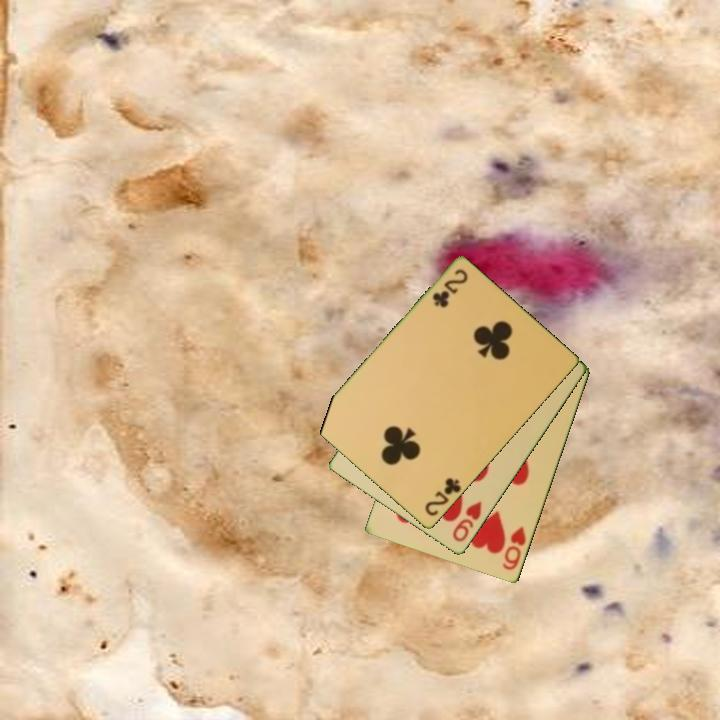2c: (421, 474, 464, 519), (429, 266, 471, 311)
6h: (499, 523, 529, 574)
9h: (449, 498, 485, 545)
